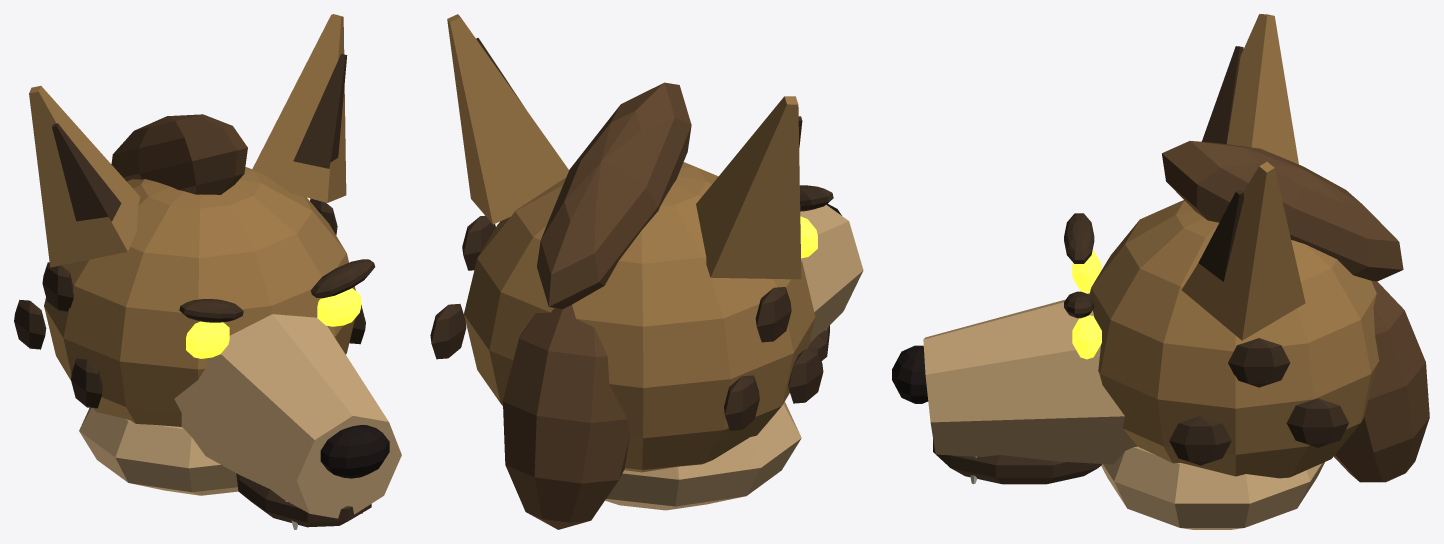
Rendered from gnoll_head.glb.
3 views of the same model, side by side, from view 1: azimuth 30°, elevation 25°; view 2: azimuth 150°, elevation 25°; view 3: azimuth 270°, elevation 25° (orthographic). The views are drawn at different scales.
Parts seen in each view (by area): view 1: gnoll_head; view 2: gnoll_head; view 3: gnoll_head.
Part boxes in pixels (left/top/right/bottom): gnoll_head: left=14, top=14, right=401, bottom=529; gnoll_head: left=430, top=14, right=863, bottom=529; gnoll_head: left=892, top=14, right=1429, bottom=529.
Bounding box in the file's own units: 0.9576 × 1.19 × 1.37.
